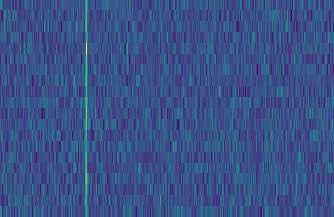signal: (79, 0, 88, 217)
